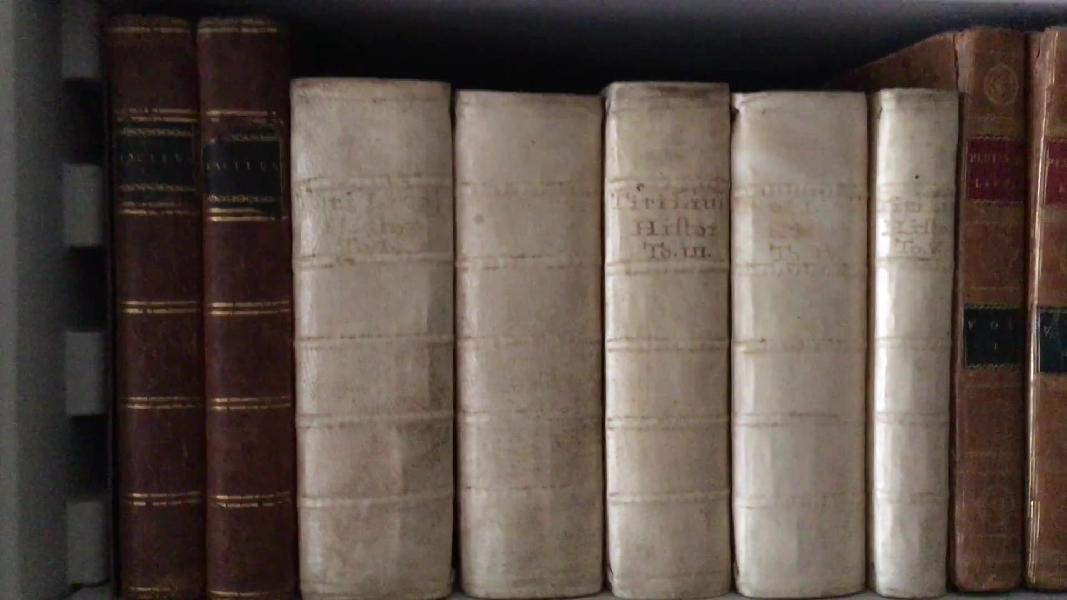Kk4-1_2: (119, 9, 297, 600)
Kk4-3_7: (294, 72, 946, 600)
